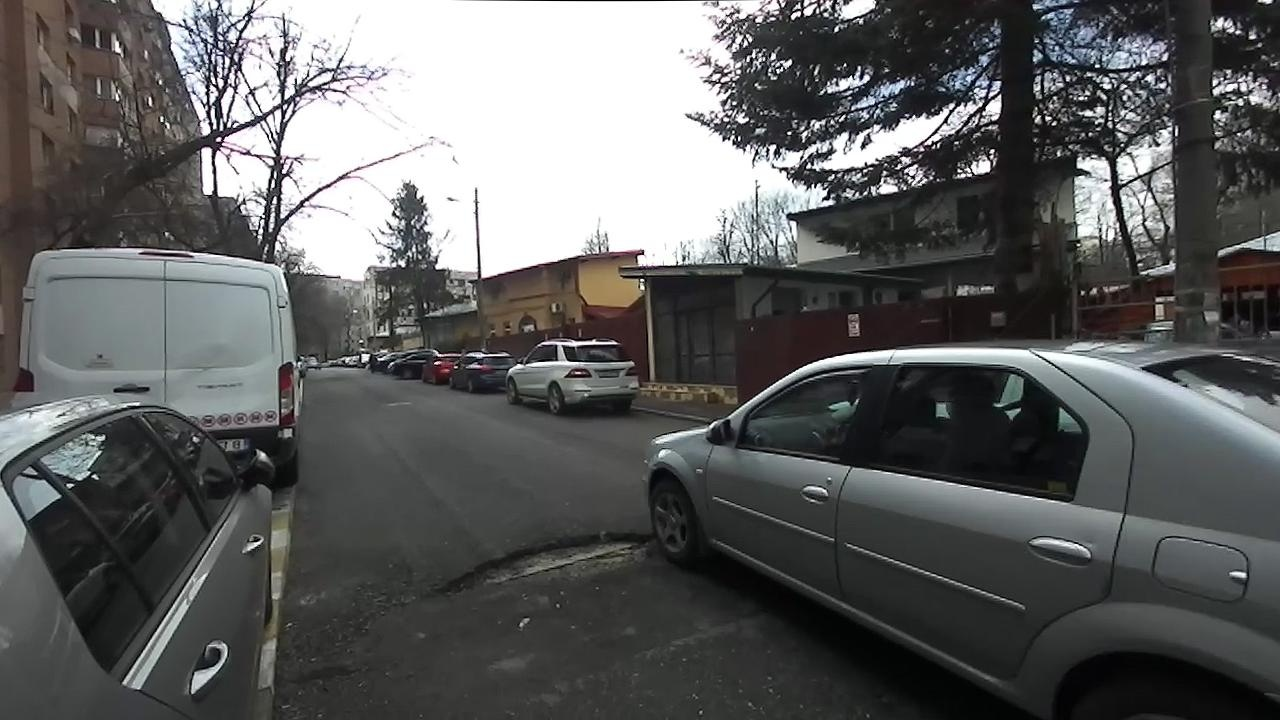pothole: (424, 526, 652, 599)
